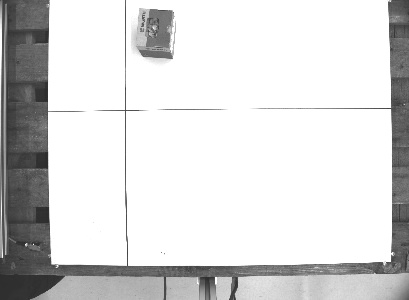b7: (131, 5, 177, 60)
